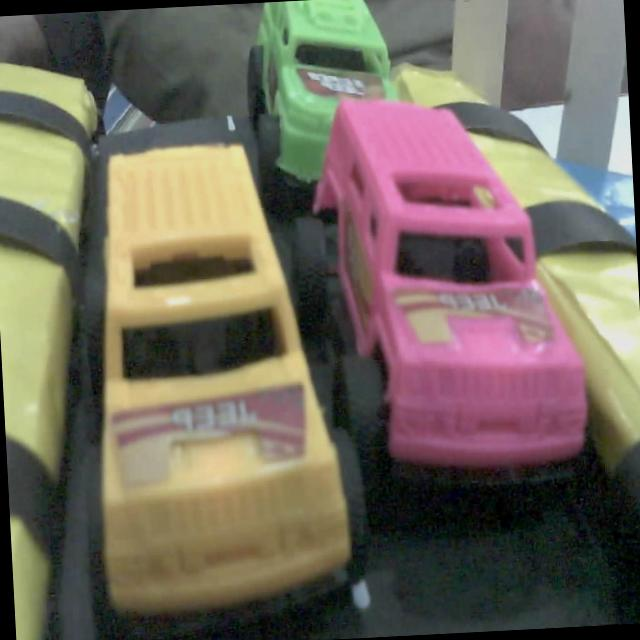ThreeCar: (58, 115, 364, 640), (284, 85, 600, 504), (230, 0, 412, 211)
